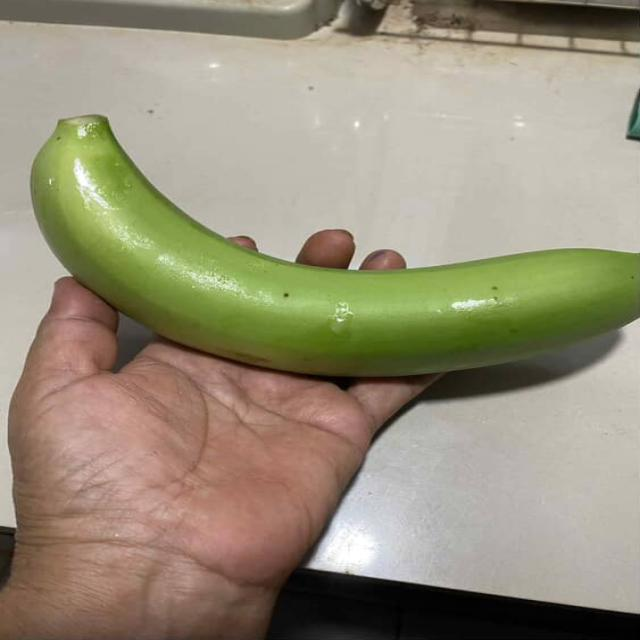Raw: (22, 101, 640, 406)
